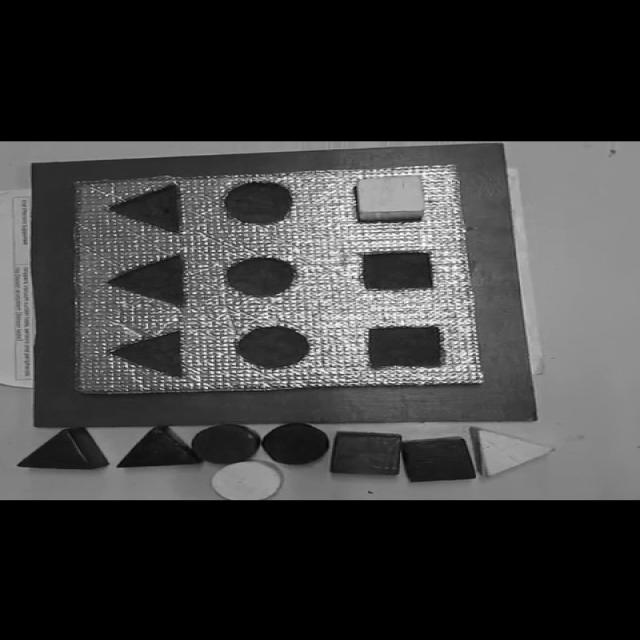bcircle: (262, 422, 329, 464)
btriangle: (118, 426, 201, 468)
mtcircle: (236, 324, 312, 369), (223, 181, 294, 224), (226, 256, 298, 296)
mtcube: (365, 324, 448, 370), (358, 250, 439, 290)
mttriangle: (105, 254, 187, 308), (106, 182, 184, 235), (108, 330, 186, 378)
rcircle: (191, 424, 260, 464)
rcube: (401, 437, 478, 482), (329, 431, 404, 476)
rtriangle: (17, 428, 107, 471)
wb: (67, 163, 481, 392)
ycircle: (210, 460, 284, 500)
ycube: (353, 173, 429, 223)
ytriangle: (470, 427, 556, 477)
